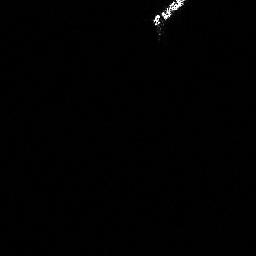ship: (150, 1, 188, 29)
